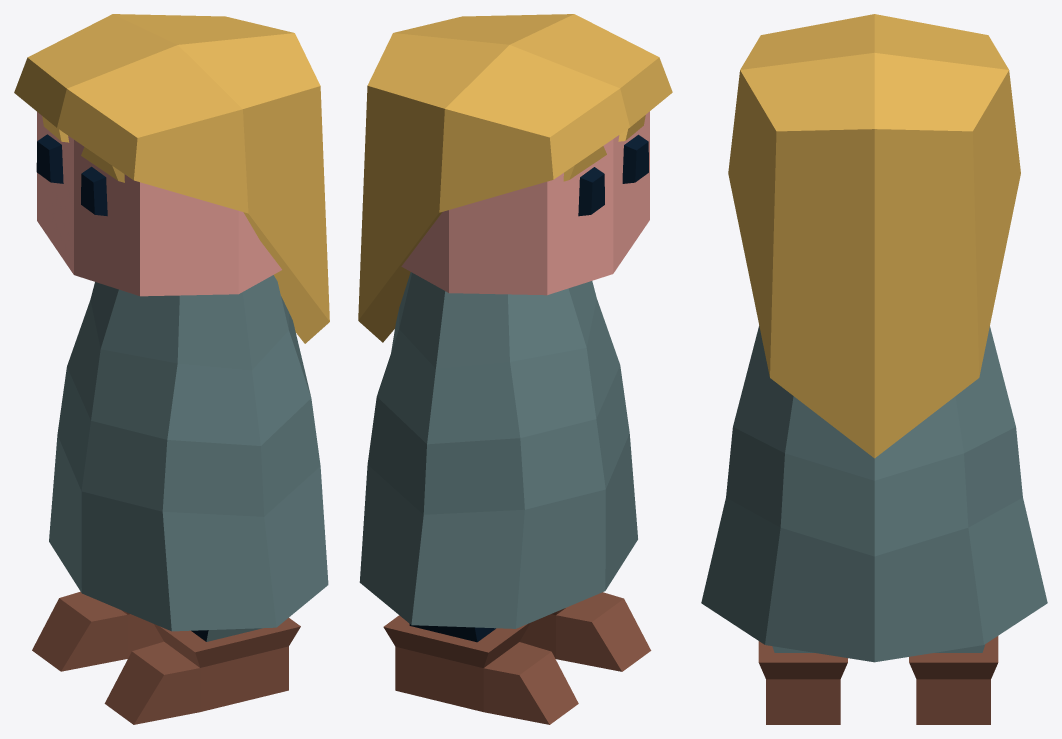
The model's file is SK_Elvira.fbx.
3 renders of one model, left to right at view 1: azimuth 30°, elevation 25°; view 2: azimuth 150°, elevation 25°; view 3: azimuth 270°, elevation 25°, orthographic. The views are drawn at different scales.
Parts seen in each view (by area): view 1: SK_Elvira; view 2: SK_Elvira; view 3: SK_Elvira.
Boxes of the visible parts, x1,y1,x2,y2 form: SK_Elvira: [14, 14, 329, 724]; SK_Elvira: [358, 14, 672, 724]; SK_Elvira: [701, 14, 1047, 724].
Size of the model in its own units: 55.63 by 131 by 63.84.
